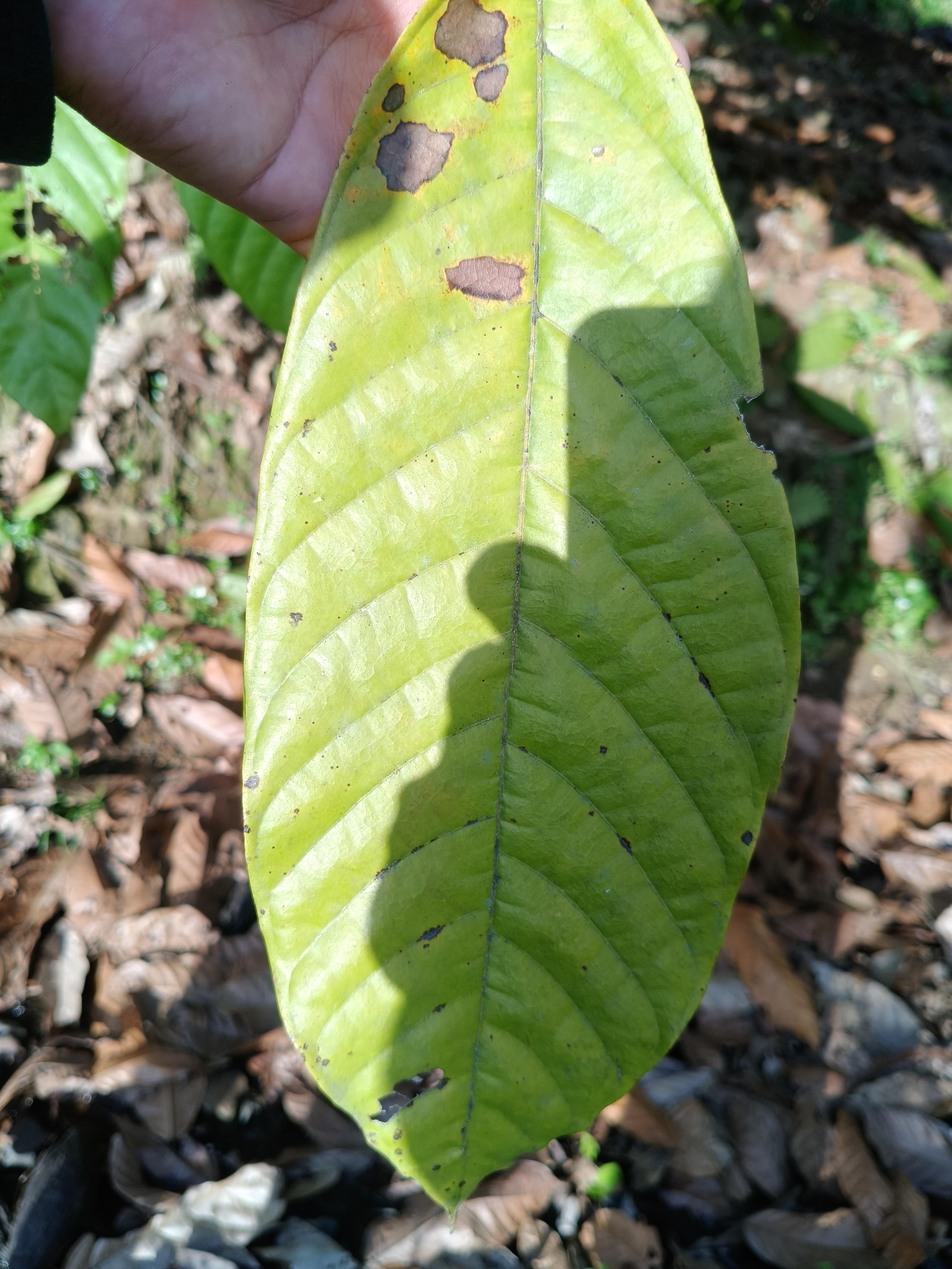deficiencia_potasio: (251, 0, 793, 1211)
